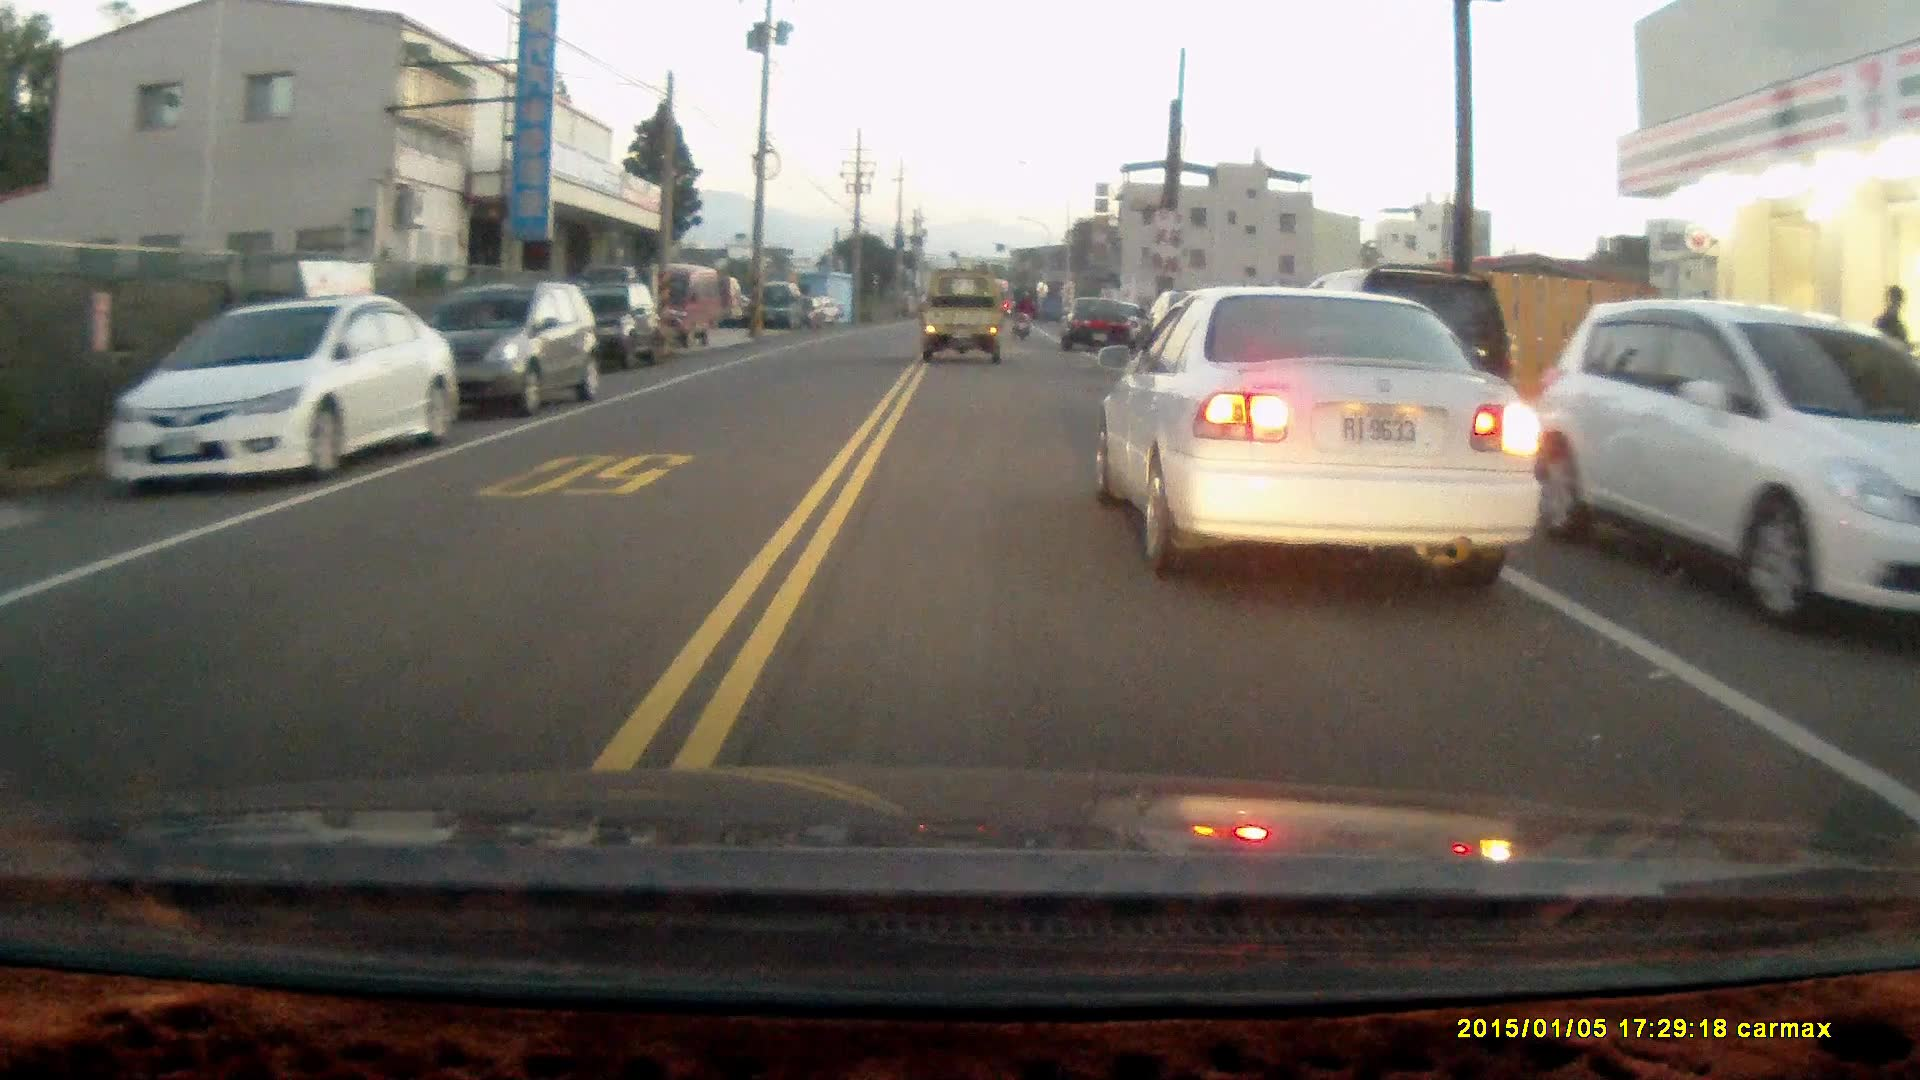pedestrian: (1871, 281, 1910, 386)
rider: (1010, 288, 1037, 336)
vehicle: (1538, 299, 1920, 646), (1093, 283, 1540, 577), (100, 291, 464, 487), (1301, 270, 1517, 483), (391, 277, 598, 414), (921, 268, 1010, 367), (633, 262, 737, 345), (572, 283, 663, 371), (1063, 295, 1142, 356)
